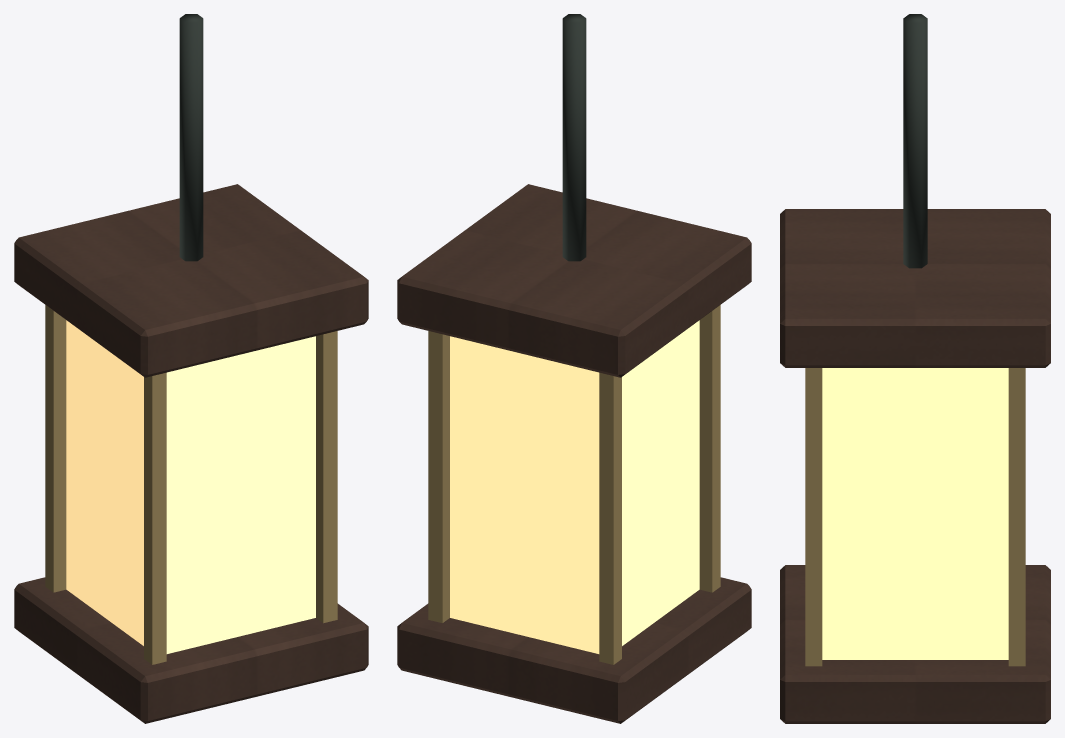
The model's file is library_lantern.glb.
3 views of the same model, side by side, from view 1: azimuth 30°, elevation 25°; view 2: azimuth 150°, elevation 25°; view 3: azimuth 270°, elevation 25° (orthographic). The views are drawn at different scales.
Visible parts, largest first — view 1: Scripture_Timber, Scripture_Lantern, Scripture_Bronze, Scripture_Iron; view 2: Scripture_Timber, Scripture_Lantern, Scripture_Bronze, Scripture_Iron; view 3: Scripture_Timber, Scripture_Lantern, Scripture_Bronze, Scripture_Iron.
Part boxes in pixels (box(x1,y1,x2,y2)): Scripture_Timber: box(14, 184, 368, 723); Scripture_Lantern: box(66, 320, 315, 653); Scripture_Bronze: box(45, 305, 337, 664); Scripture_Iron: box(179, 14, 203, 261); Scripture_Timber: box(397, 184, 751, 723); Scripture_Lantern: box(450, 320, 699, 653); Scripture_Bronze: box(428, 305, 720, 664); Scripture_Iron: box(562, 14, 586, 261); Scripture_Timber: box(780, 209, 1050, 723); Scripture_Lantern: box(822, 368, 1008, 659); Scripture_Bronze: box(805, 368, 1025, 666); Scripture_Iron: box(903, 14, 927, 268).
Size of the model in its own units: 0.4 by 1.06 by 0.4.
4 materials, 1 textured.
